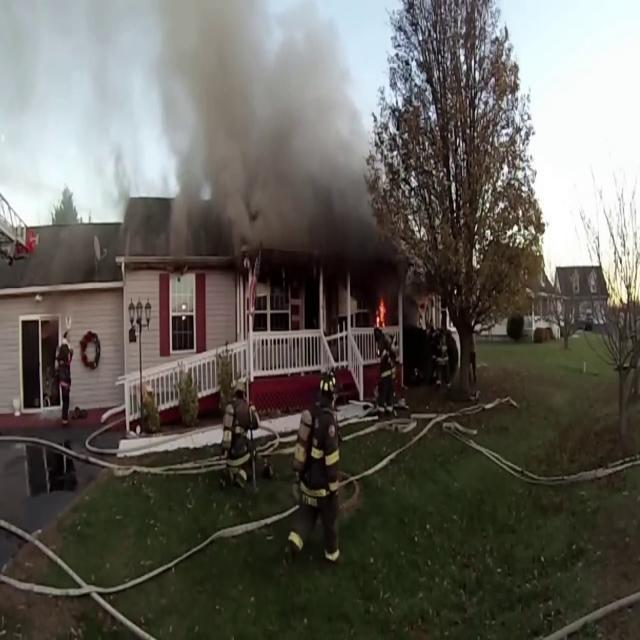Fire: (374, 289, 388, 334)
Smoke: (146, 0, 387, 262)
